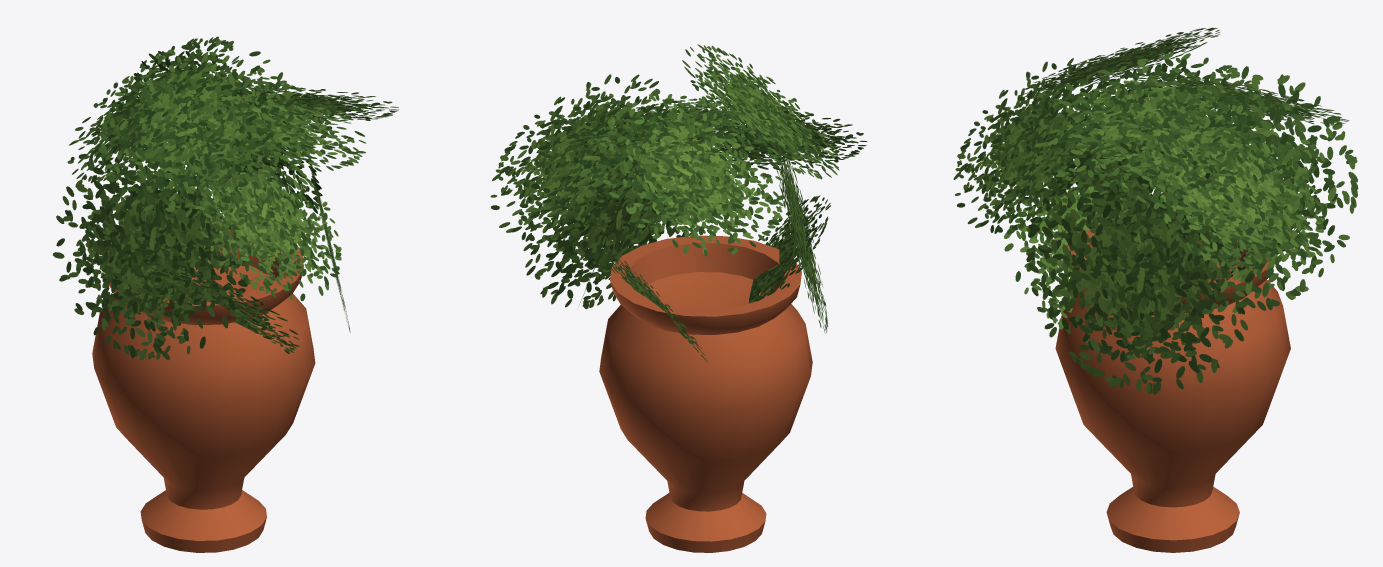
The model's file is terracotta_urn.glb.
The picture shows the model from 3 angles, left to right: view 1: azimuth 30°, elevation 25°; view 2: azimuth 150°, elevation 25°; view 3: azimuth 270°, elevation 25°; orthographic projection. The views are drawn at different scales.
Visible parts, largest first — view 1: body; view 2: body; view 3: body.
Part boxes in pixels (x1,y1,x2,y2): body: [53, 36, 398, 552]; body: [490, 44, 867, 552]; body: [953, 27, 1358, 552].
Bounding box in the file's own units: 1.19 × 1.47 × 1.16.
2 materials, 1 textured.
